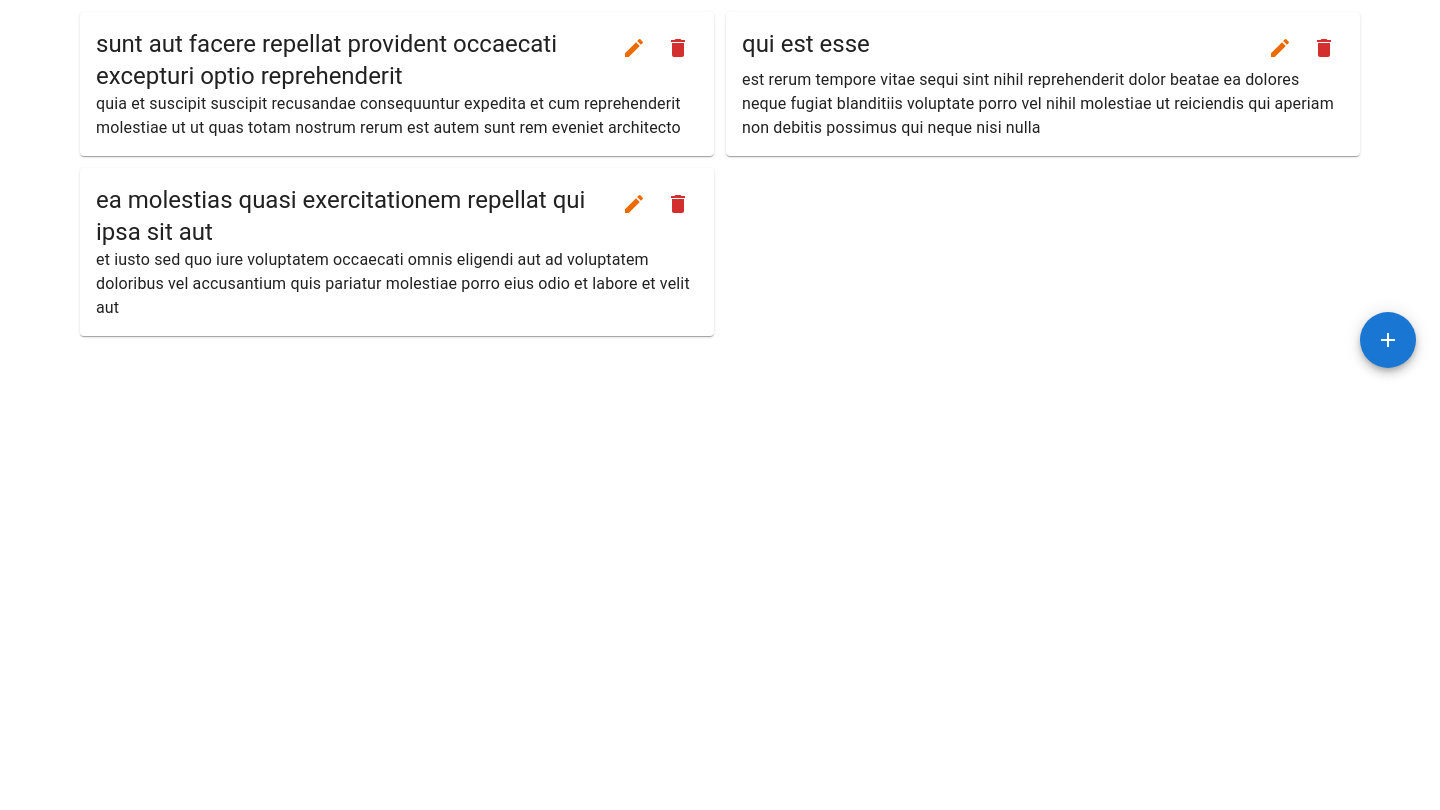
Test: Custom Posts Pages › success add data
Check: the number of elements with test id "card-item" is 3, box [80,12,714,156]; [726,12,1360,156]; [80,168,714,336]
Click the button named "add": {"x": 1388, "y": 340} [1360,312,1416,368]
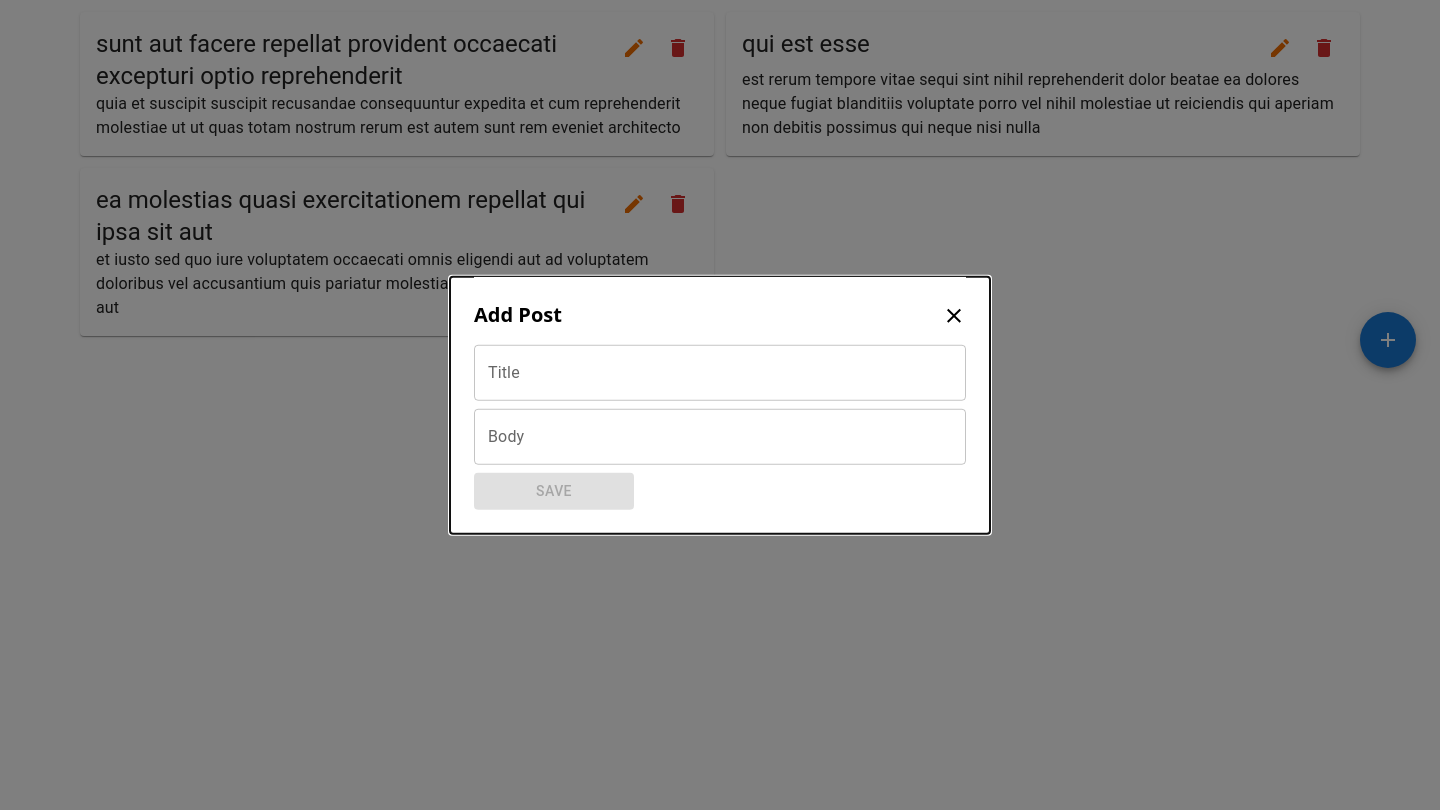
Check: the text "add post" is shown, box [474,301,562,329]
Check: the field labelled "Title" is shown
Check: the field labelled "Body" is shown, box [474,409,966,465]
In the field labelled "Title": {"x": 720, "y": 373} [474,345,966,401], type "title123"
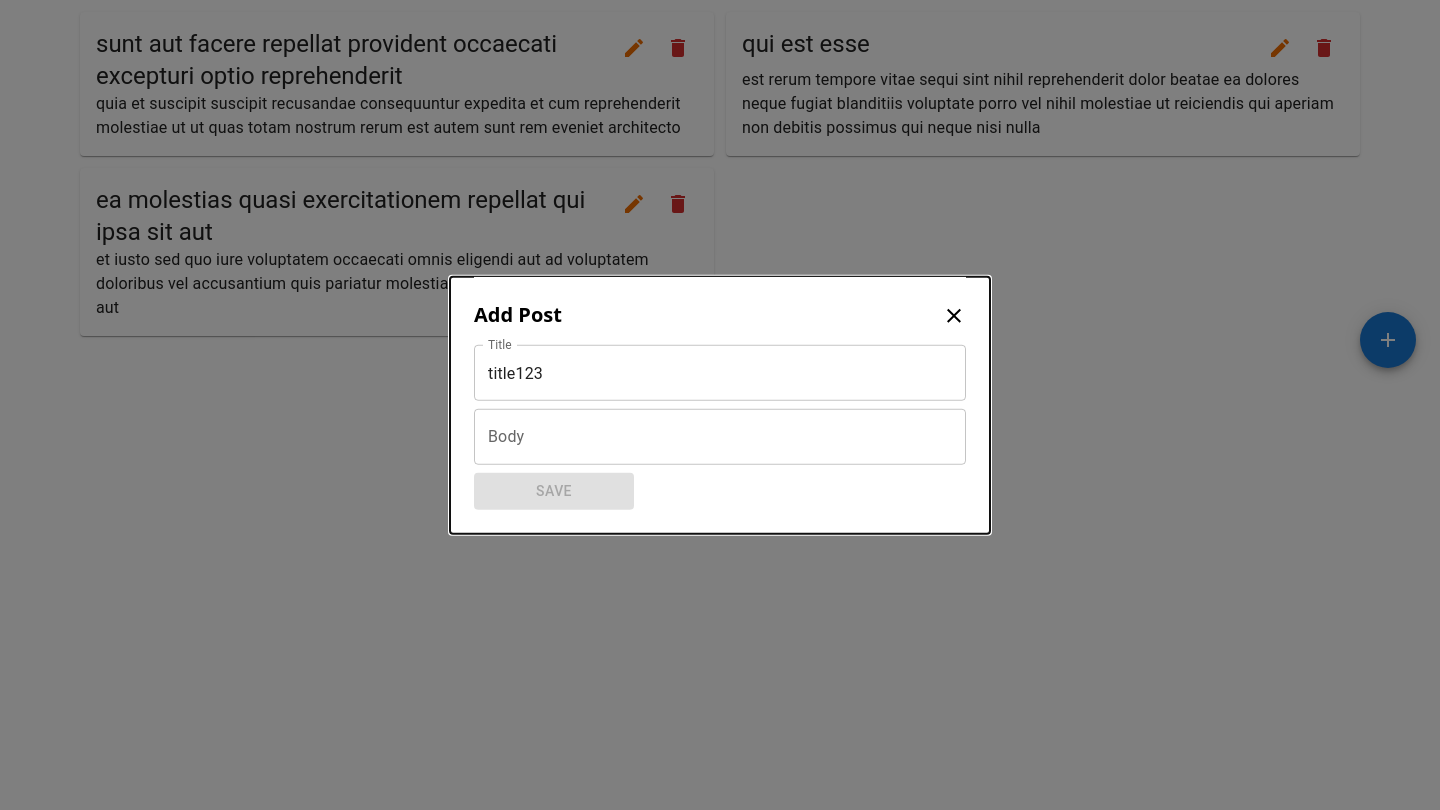
In the field labelled "Body": {"x": 720, "y": 437} [474,409,966,465], type "body 321"
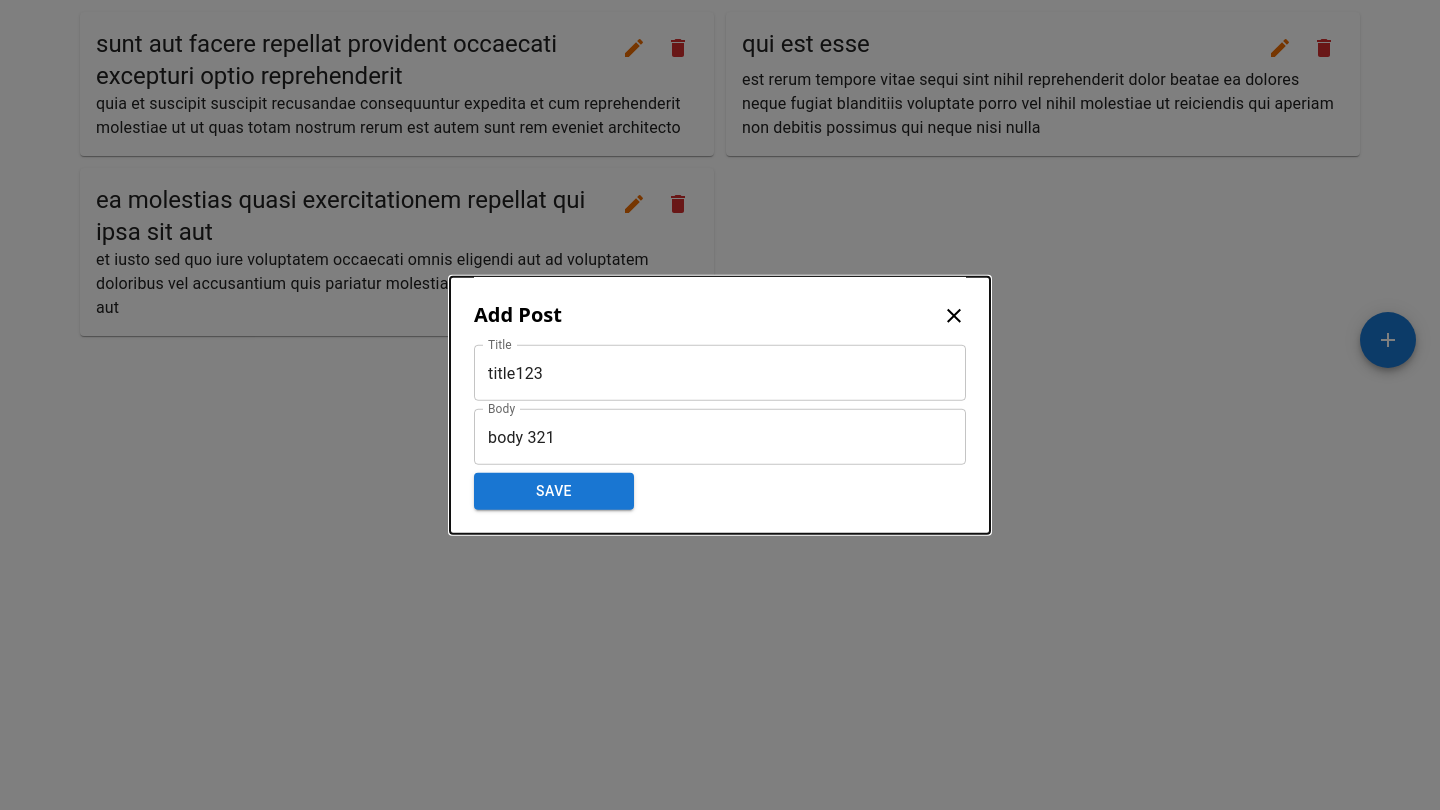
Check: the button "Save" is enabled
Click the button "Save": {"x": 554, "y": 491} [474,473,634,509]
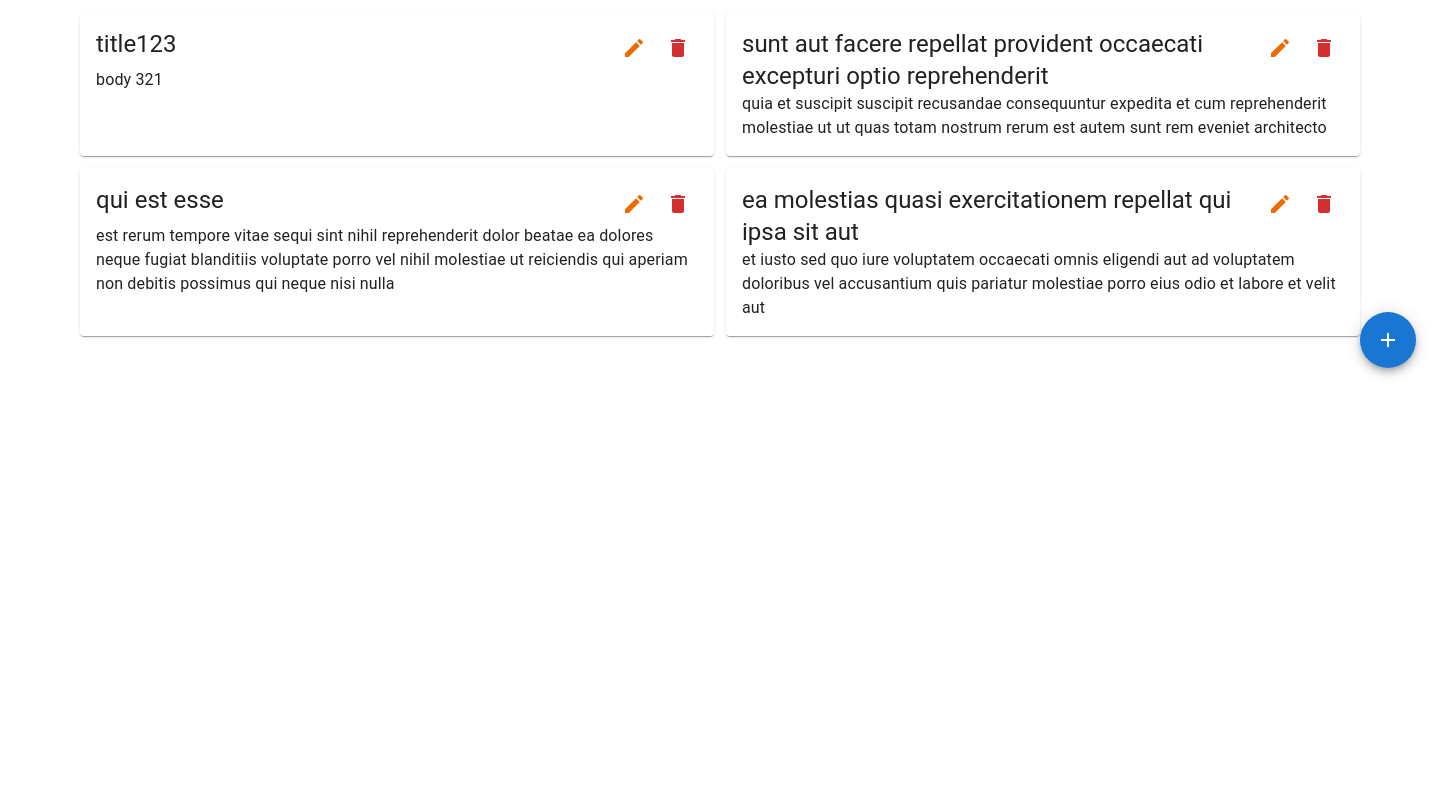
Check: the number of elements with test id "card-item" is 4, box [80,12,714,156]; [726,12,1360,156]; [80,168,714,336]; [726,168,1360,336]
Check: the heading "title123" is shown, box [96,28,177,68]
